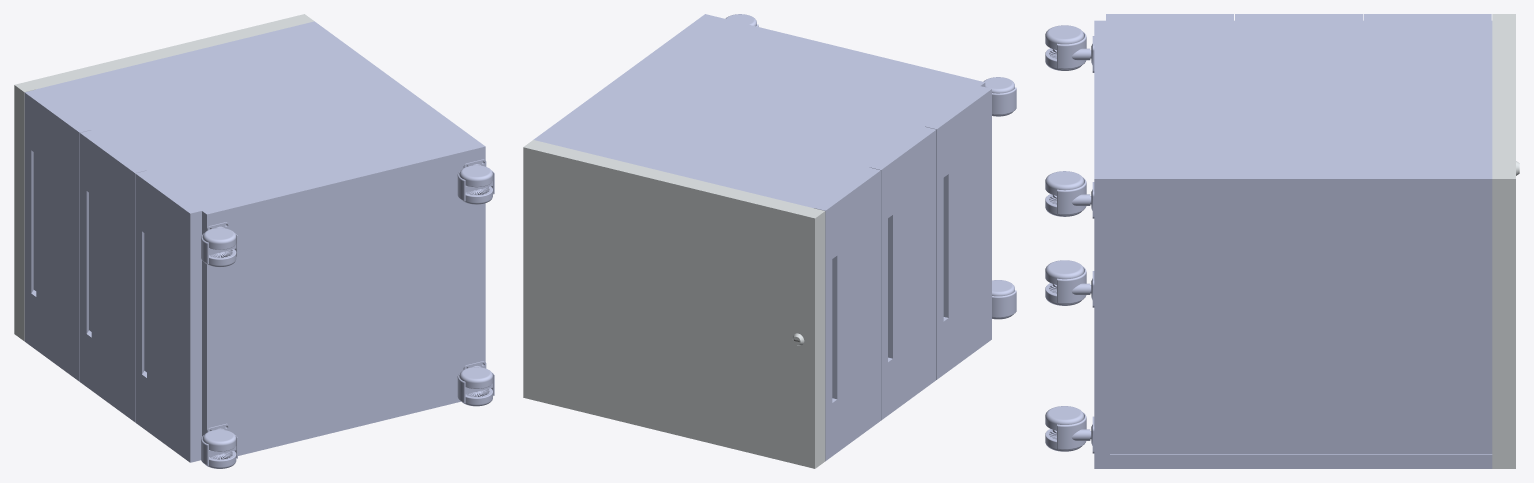
Rendered from cabinet.FBX.
The picture shows the model from 3 angles, left to right: view 1: azimuth 30°, elevation 25°; view 2: azimuth 150°, elevation 25°; view 3: azimuth 270°, elevation 25°; orthographic projection. The views are drawn at different scales.
Visible parts, largest first — view 1: Mirror3, Cut-Extrude4 (×2), Cut-Extrude3 (×4), Fillet2 (×4); view 2: Cut-Extrude3 (×4), Cut-Extrude4, Fillet1 (×2); view 3: Boss-Extrude1, Cut-Extrude4 (×2), Cut-Extrude3 (×4), Mirror3, Fillet1 (×4), Fillet2 (×4).
Part boxes in pixels (x1,y1,x2,y2): Mirror3: [202, 158, 485, 443]; Cut-Extrude4 (×2): [36, 21, 485, 455]; Cut-Extrude3 (×4): [14, 14, 313, 462]; Fillet2 (×4): [203, 165, 492, 451]; Cut-Extrude3 (×4): [523, 86, 991, 468]; Cut-Extrude4: [533, 14, 985, 208]; Fillet1 (×2): [992, 87, 1016, 317]; Boss-Extrude1: [1110, 193, 1492, 454]; Cut-Extrude4 (×2): [1094, 20, 1492, 468]; Cut-Extrude3 (×4): [1106, 14, 1519, 468]; Mirror3: [1094, 193, 1109, 454]; Fillet1 (×4): [1057, 32, 1090, 449]; Fillet2 (×4): [1045, 25, 1084, 430].
Size of the model in its own units: 0.000508 by 0.00041 by 0.000608.
